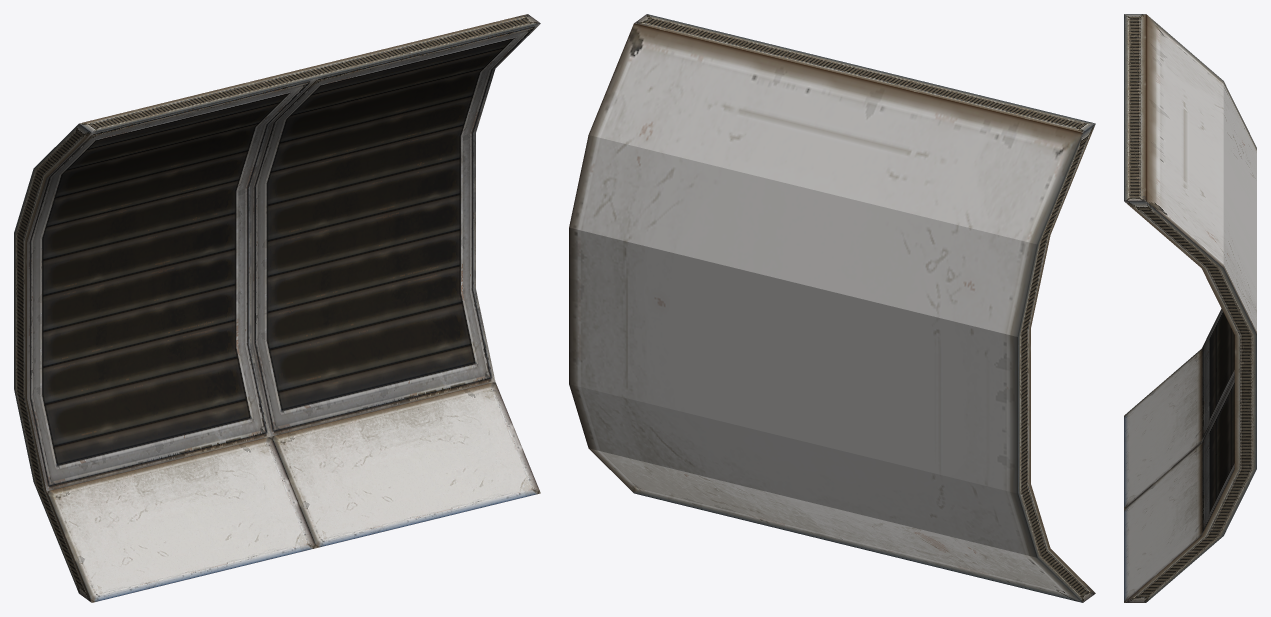
Rendered from scifi_wall_big_1.FBX.
3 renders of one model, left to right at view 1: azimuth 30°, elevation 25°; view 2: azimuth 150°, elevation 25°; view 3: azimuth 270°, elevation 25°, orthographic. The views are drawn at different scales.
Parts seen in each view (by area): view 1: Plane164; view 2: Plane164; view 3: Plane164.
Part boxes in pixels (box(x1,y1,x2,y2)): Plane164: box(14, 14, 540, 602); Plane164: box(569, 14, 1095, 602); Plane164: box(1124, 14, 1256, 602).
Size of the model in its own units: 508 by 508 by 152.
